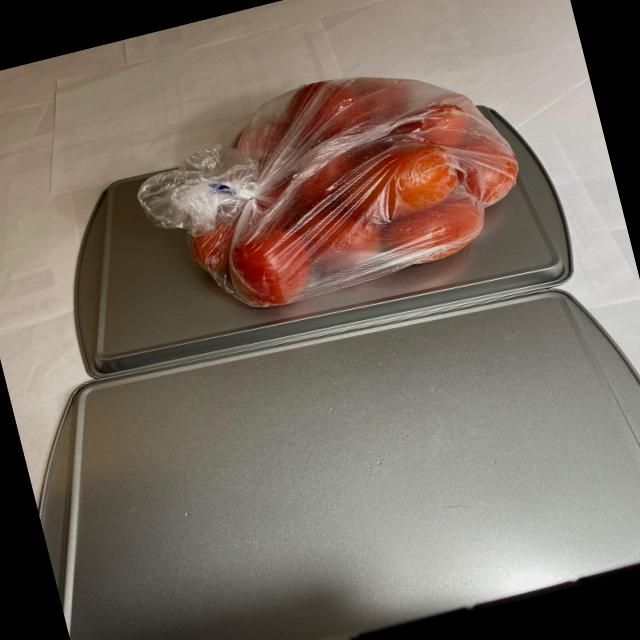tomato: (158, 36, 540, 315)
